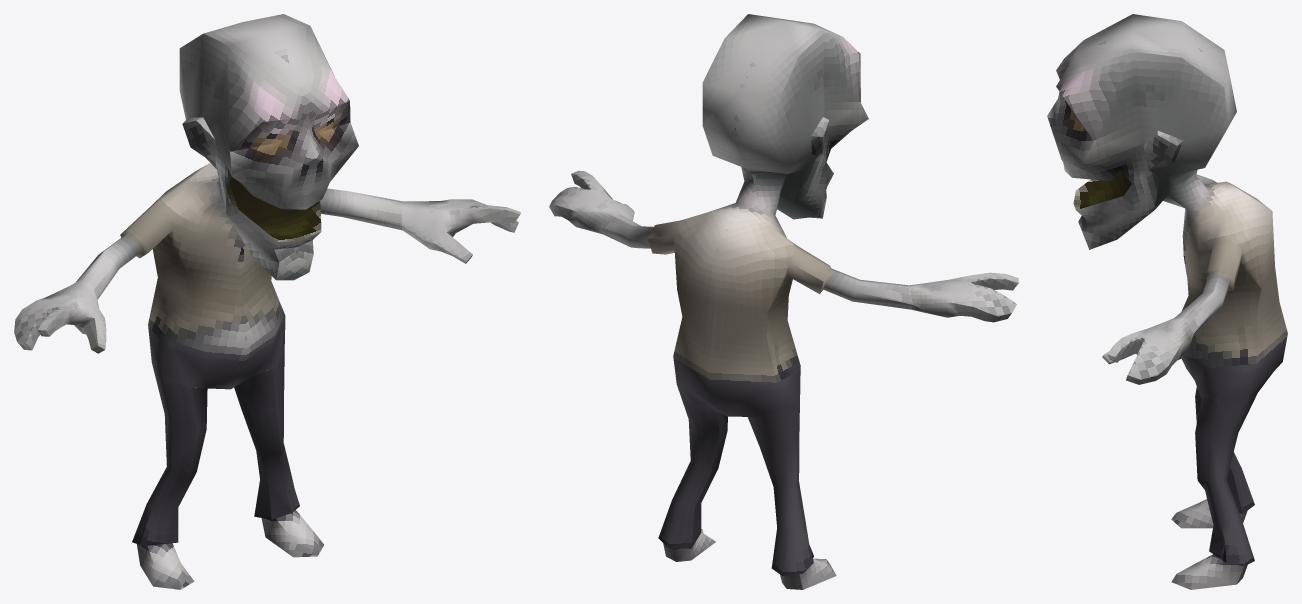
Rendered from Zombie.fbx.
3 views of the same model, side by side, from view 1: azimuth 30°, elevation 25°; view 2: azimuth 150°, elevation 25°; view 3: azimuth 270°, elevation 25° (orthographic). The views are drawn at different scales.
Parts seen in each view (by area): view 1: Zombie; view 2: Zombie; view 3: Zombie.
Part boxes in pixels (x1,y1,x2,y2): Zombie: [14, 14, 520, 589]; Zombie: [549, 14, 1018, 589]; Zombie: [1047, 14, 1287, 589].
Bounding box in the file's own units: 5.35 × 5.72 × 2.4.
